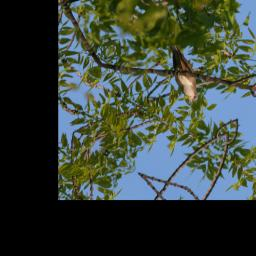Cuckoo: (146, 41, 218, 107)
